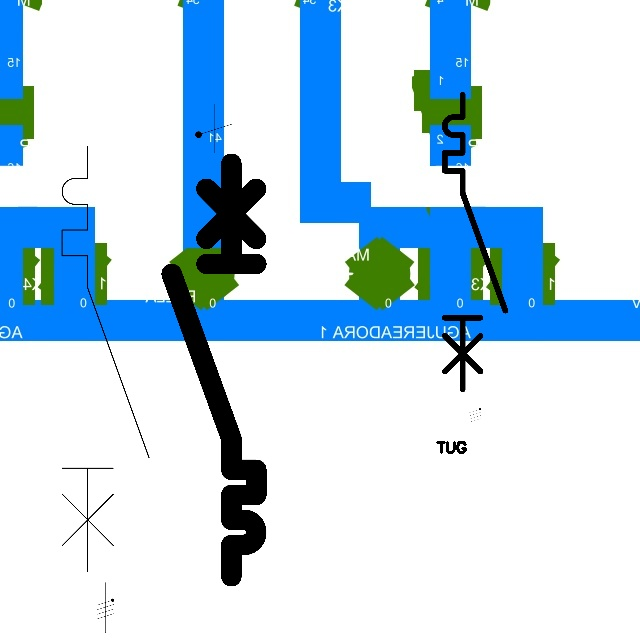interruptor_termomagnetico: (51, 135, 160, 582), (161, 153, 267, 587), (437, 87, 513, 397)
